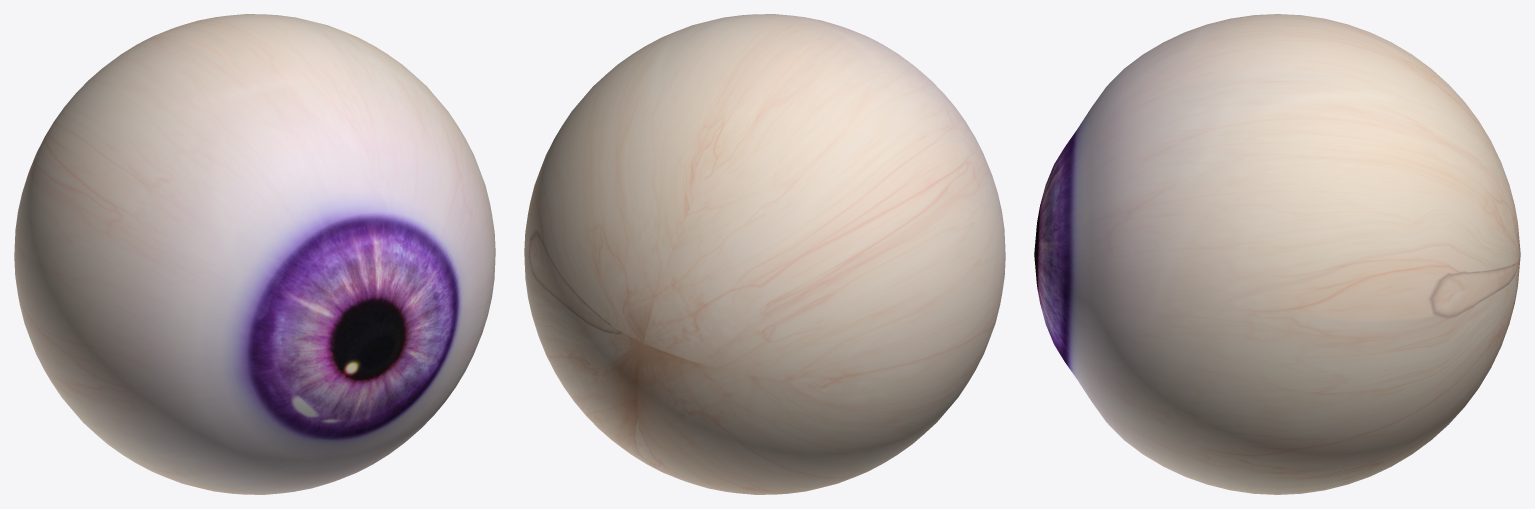
The model's file is eye.obj.
The picture shows the model from 3 angles, left to right: view 1: azimuth 30°, elevation 25°; view 2: azimuth 150°, elevation 25°; view 3: azimuth 270°, elevation 25°; orthographic projection.
Parts seen in each view (by area): view 1: Sphere; view 2: Sphere; view 3: Sphere.
Boxes of the visible parts, x1,y1,x2,y2 form: Sphere: (14,14,495,494); Sphere: (524,14,1005,494); Sphere: (1034,14,1520,494).
Bounding box in the file's own units: 1.97 × 1.97 × 2.
